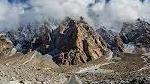sharp_turn: (60, 73, 83, 84)
